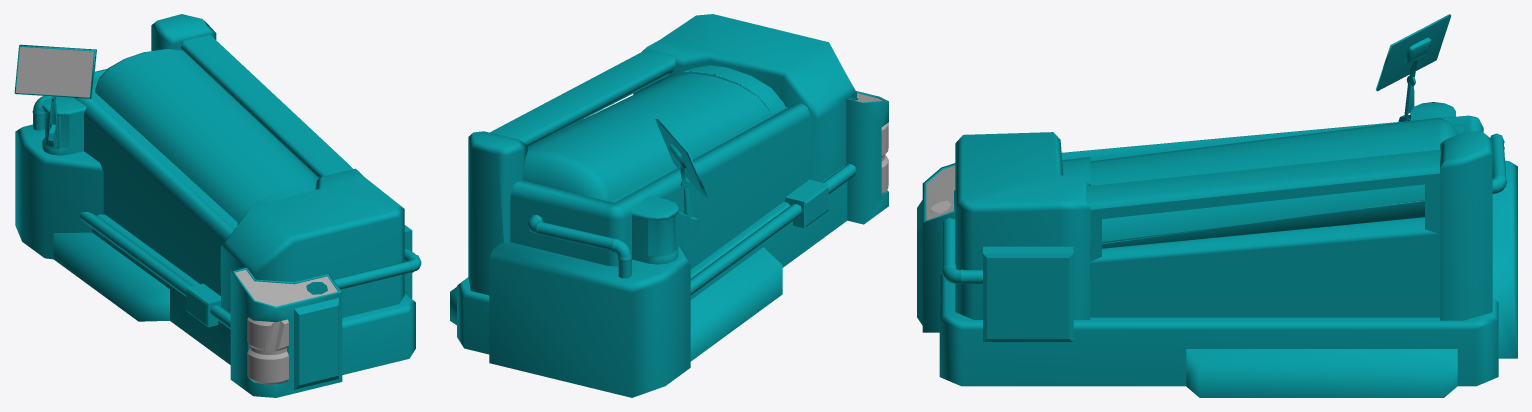
File: Cryochamber.fbx
3 renders of one model, left to right at view 1: azimuth 30°, elevation 25°; view 2: azimuth 150°, elevation 25°; view 3: azimuth 270°, elevation 25°, orthographic. The views are drawn at different scales.
Visible parts, largest first — view 1: polySurface65, polySurface49, Moniter, polySurface47, Power_gague, polySurface57; view 2: polySurface65, polySurface49, polySurface57, polySurface47; view 3: polySurface65, polySurface49, polySurface57, Power_gague, polySurface60.
Boxes of the visible parts, x1,y1,x2,y2 form: polySurface65: [15, 14, 421, 397]; polySurface49: [95, 49, 317, 222]; Moniter: [16, 47, 93, 97]; polySurface47: [247, 317, 288, 384]; Power_gague: [235, 270, 337, 306]; polySurface57: [14, 44, 96, 98]; polySurface65: [450, 14, 888, 397]; polySurface49: [523, 73, 768, 201]; polySurface57: [655, 119, 707, 197]; polySurface47: [881, 122, 888, 194]; polySurface65: [917, 102, 1517, 397]; polySurface49: [1090, 117, 1458, 244]; polySurface57: [1375, 14, 1451, 91]; Power_gague: [926, 166, 955, 220]; polySurface60: [1405, 37, 1431, 83].
Size of the model in its own units: 164 by 142 by 305.
